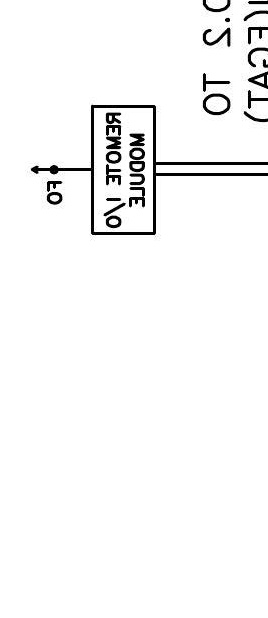remote_io_module: (91, 104, 156, 235)
